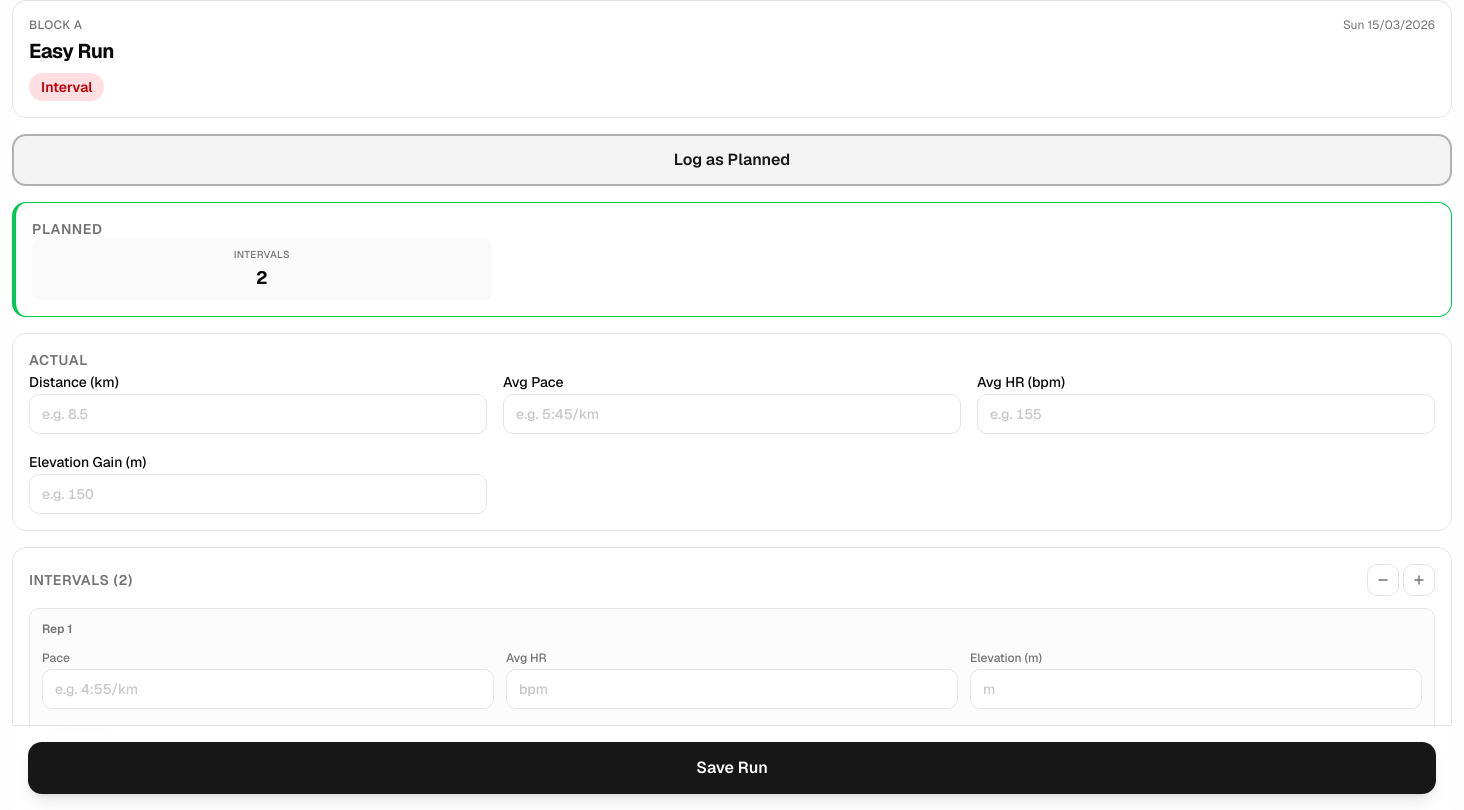
it: RunningLoggingForm — T180 elevation gain › interval save payload includes interval_elevation_gain from input
Type "50" into the field with test id "interval-elevation-1" at (1196, 689), box [970,669,1422,709]
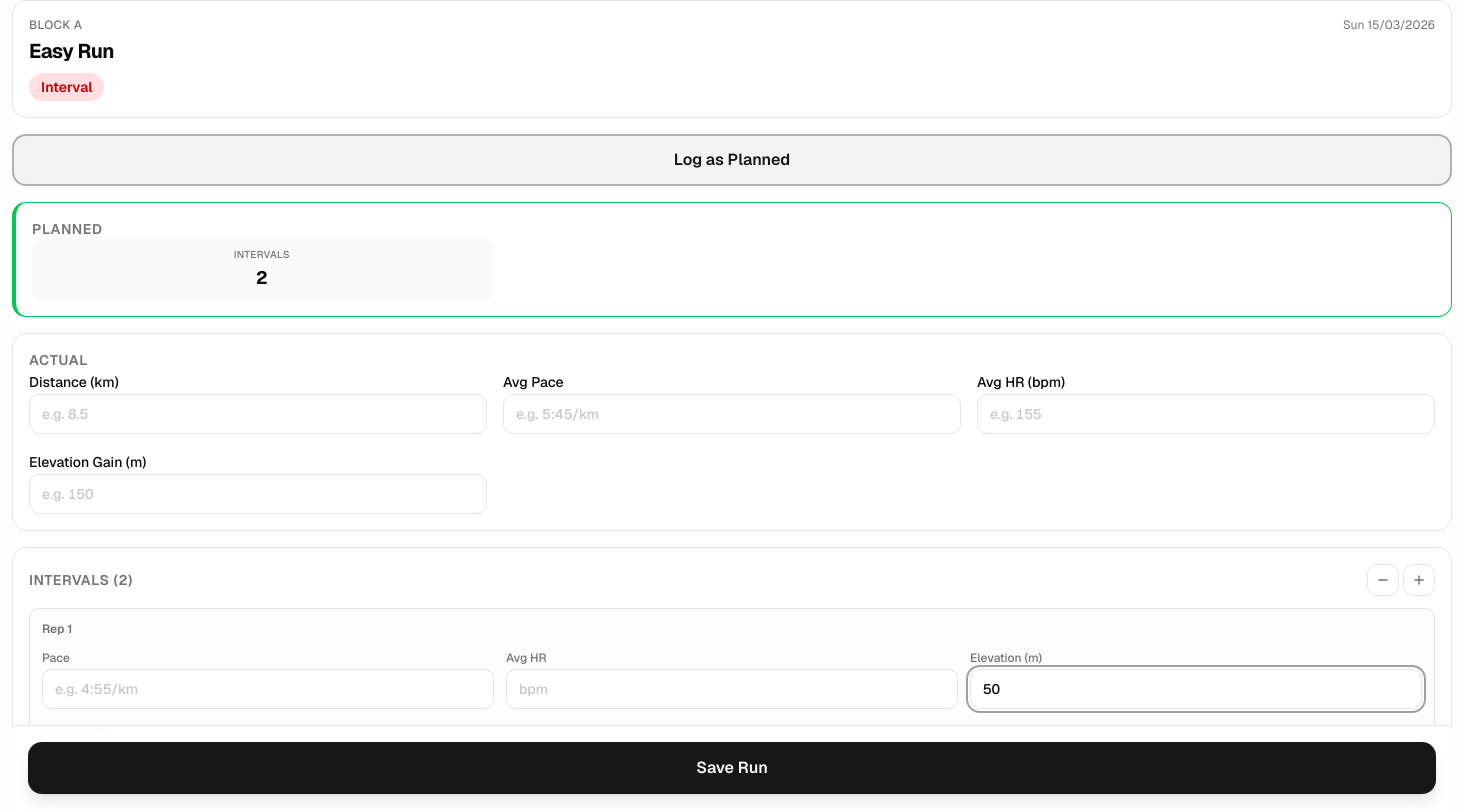
Click the button with test id "save-running-btn" at (732, 768), box [28,742,1436,794]
(page scrolled)
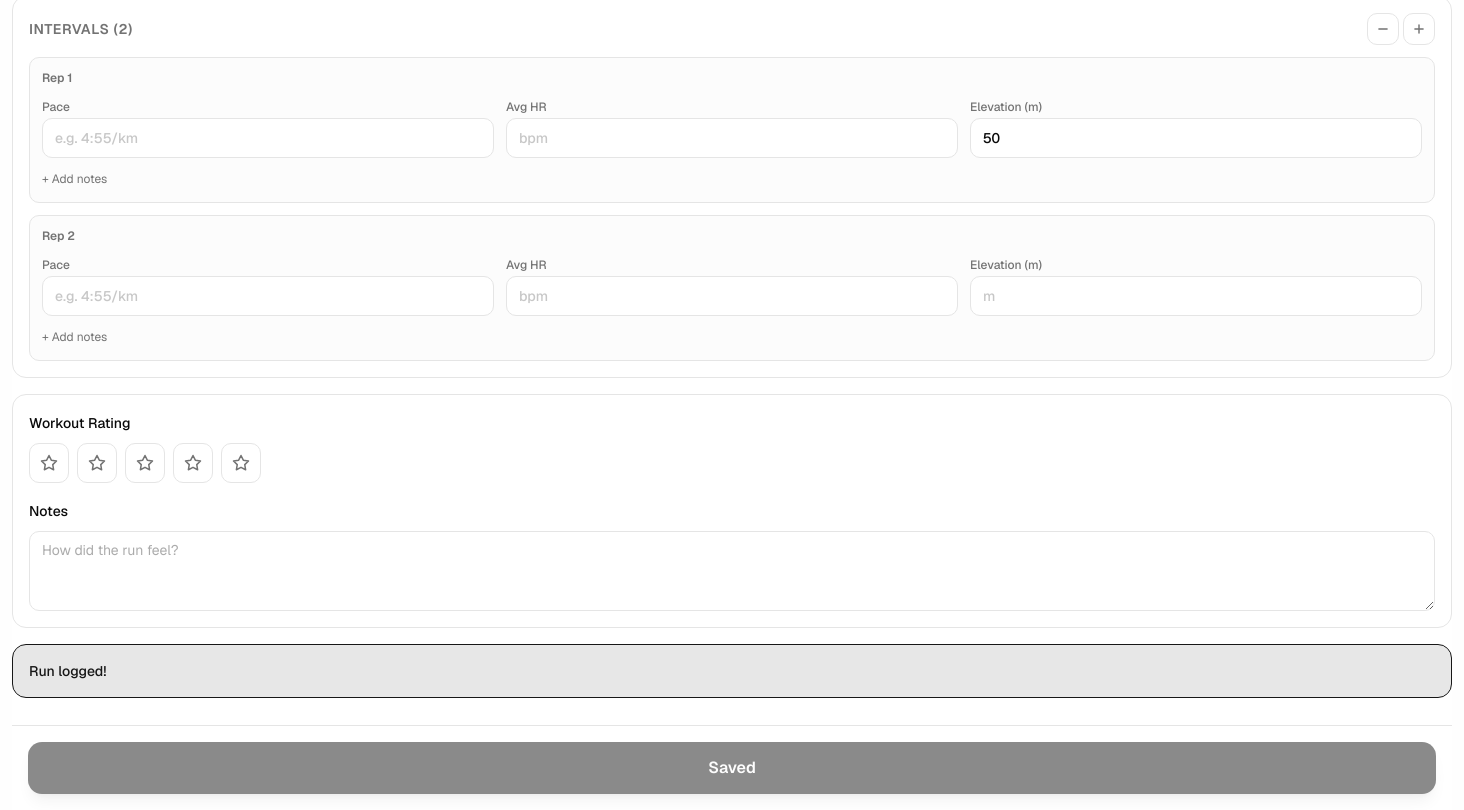
Check: the element with test id "save-success" is shown, box [12,644,1452,698]
